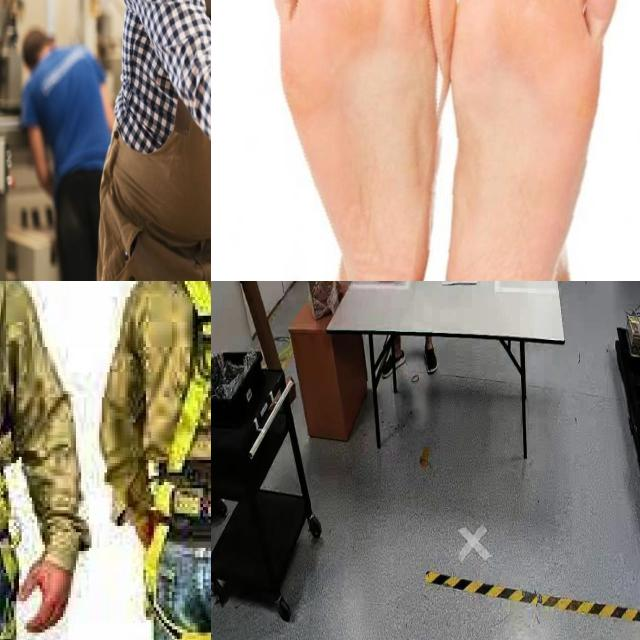Barefoots: (211, 0, 528, 281), (382, 0, 640, 281)
Harness: (168, 281, 211, 474)
person: (97, 0, 211, 281)
shoes: (379, 341, 408, 379), (422, 338, 441, 376)
